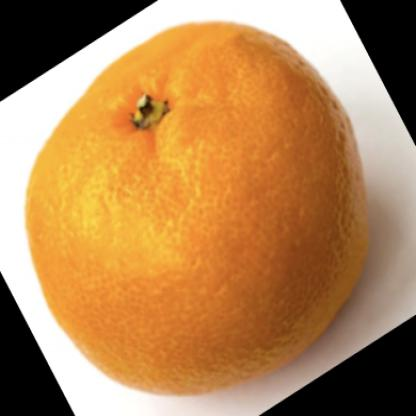orange: (20, 14, 373, 403)
